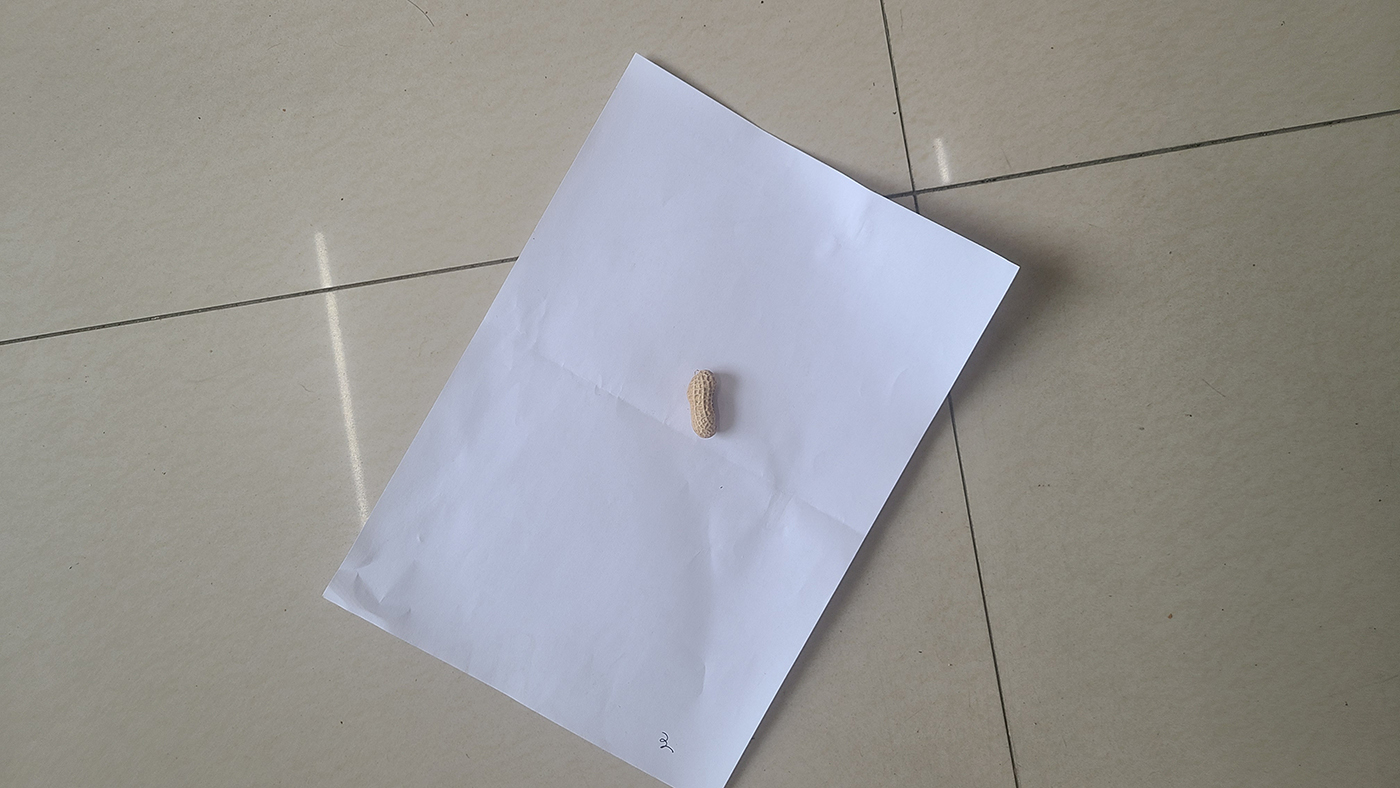h: (687, 368, 719, 438)
